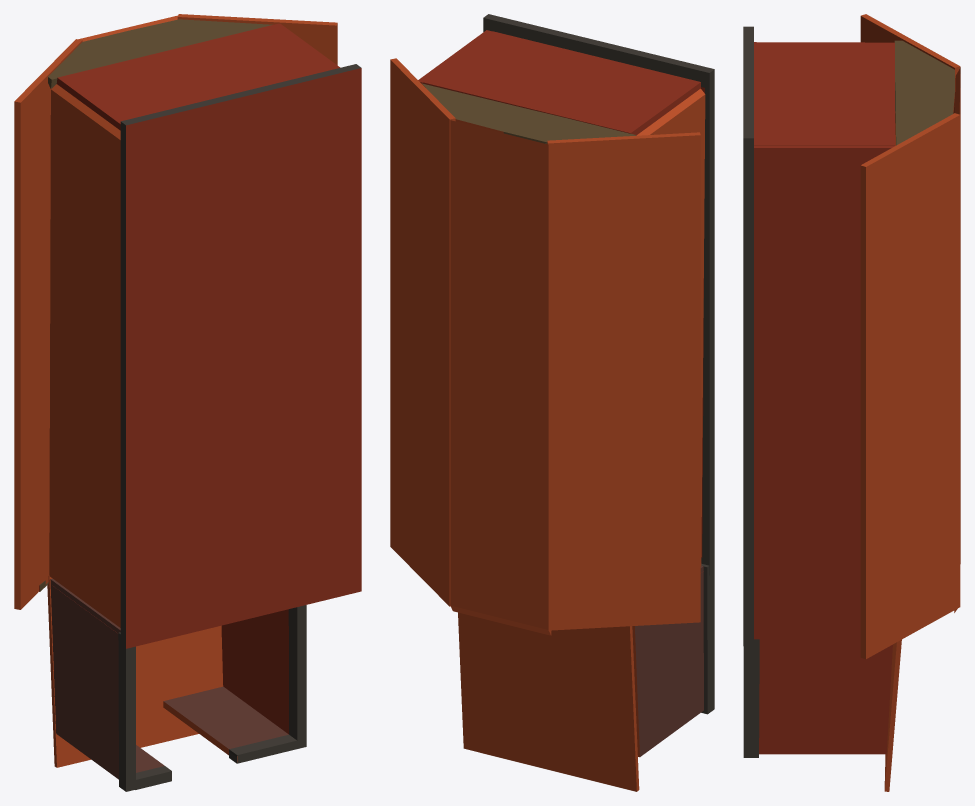
The model's file is LowPoly.fbx.
3 views of the same model, side by side, from view 1: azimuth 30°, elevation 25°; view 2: azimuth 150°, elevation 25°; view 3: azimuth 270°, elevation 25° (orthographic). The views are drawn at different scales.
Visible parts, largest first — view 1: Cube.020; view 2: Cube.020; view 3: Cube.020.
Part boxes in pixels (box(x1,y1,x2,y2)): Cube.020: box(14, 14, 361, 791); Cube.020: box(390, 14, 714, 791); Cube.020: box(743, 14, 960, 791).
Bounding box in the file's own units: 23.72 × 48.93 × 14.23.
